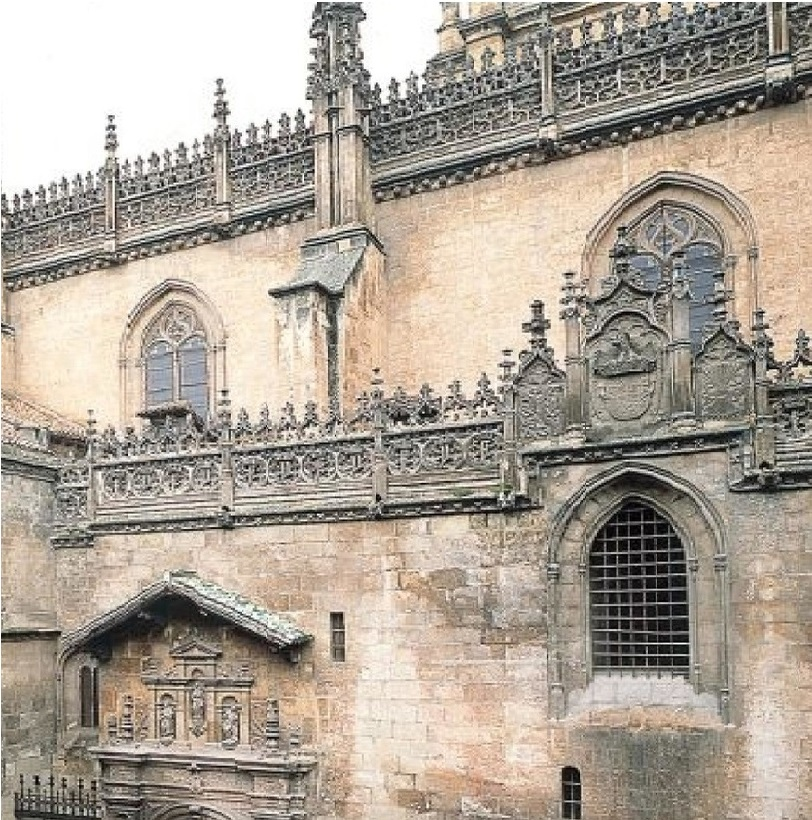arco-apuntado: (538, 457, 736, 600), (574, 163, 767, 286), (113, 273, 232, 366)
fronton: (170, 639, 220, 659)
